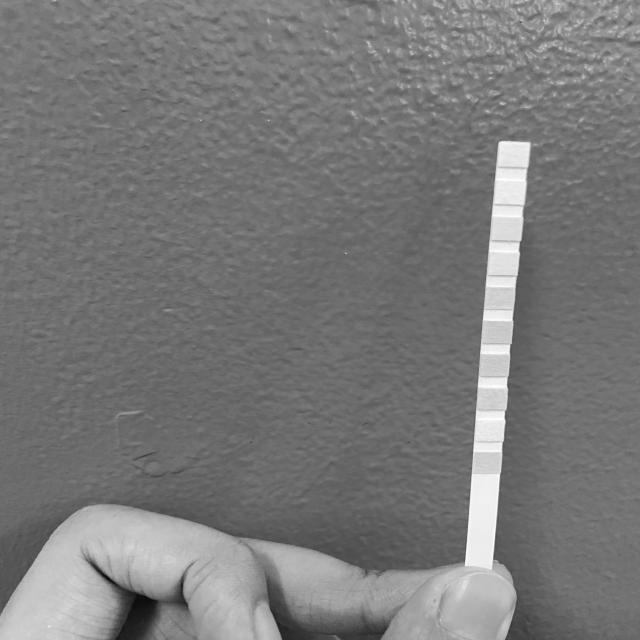Bilirubin: (476, 421, 503, 442)
Blood: (484, 321, 511, 344)
Glucose: (474, 452, 501, 473)
Ketone: (478, 389, 505, 410)
Leukocytes: (500, 142, 528, 167)
Nitrite: (497, 181, 524, 204)
Protein: (489, 252, 517, 276)
SpGravity: (481, 355, 508, 376)
Urobilinogen: (493, 218, 521, 240)
background: (0, 0, 640, 640)
pH: (487, 287, 514, 310)
strip: (465, 141, 532, 565)
